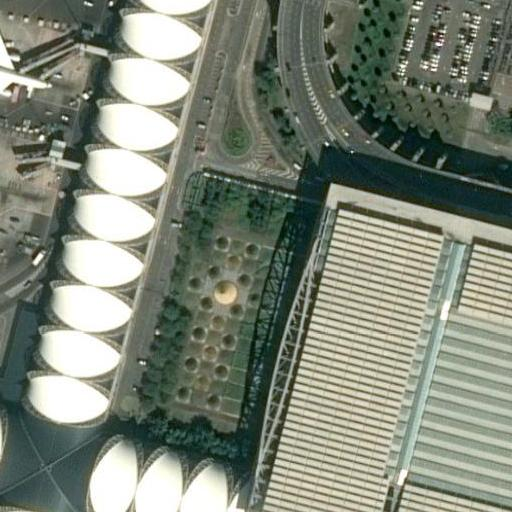Aircraft: (0, 12, 44, 125)
